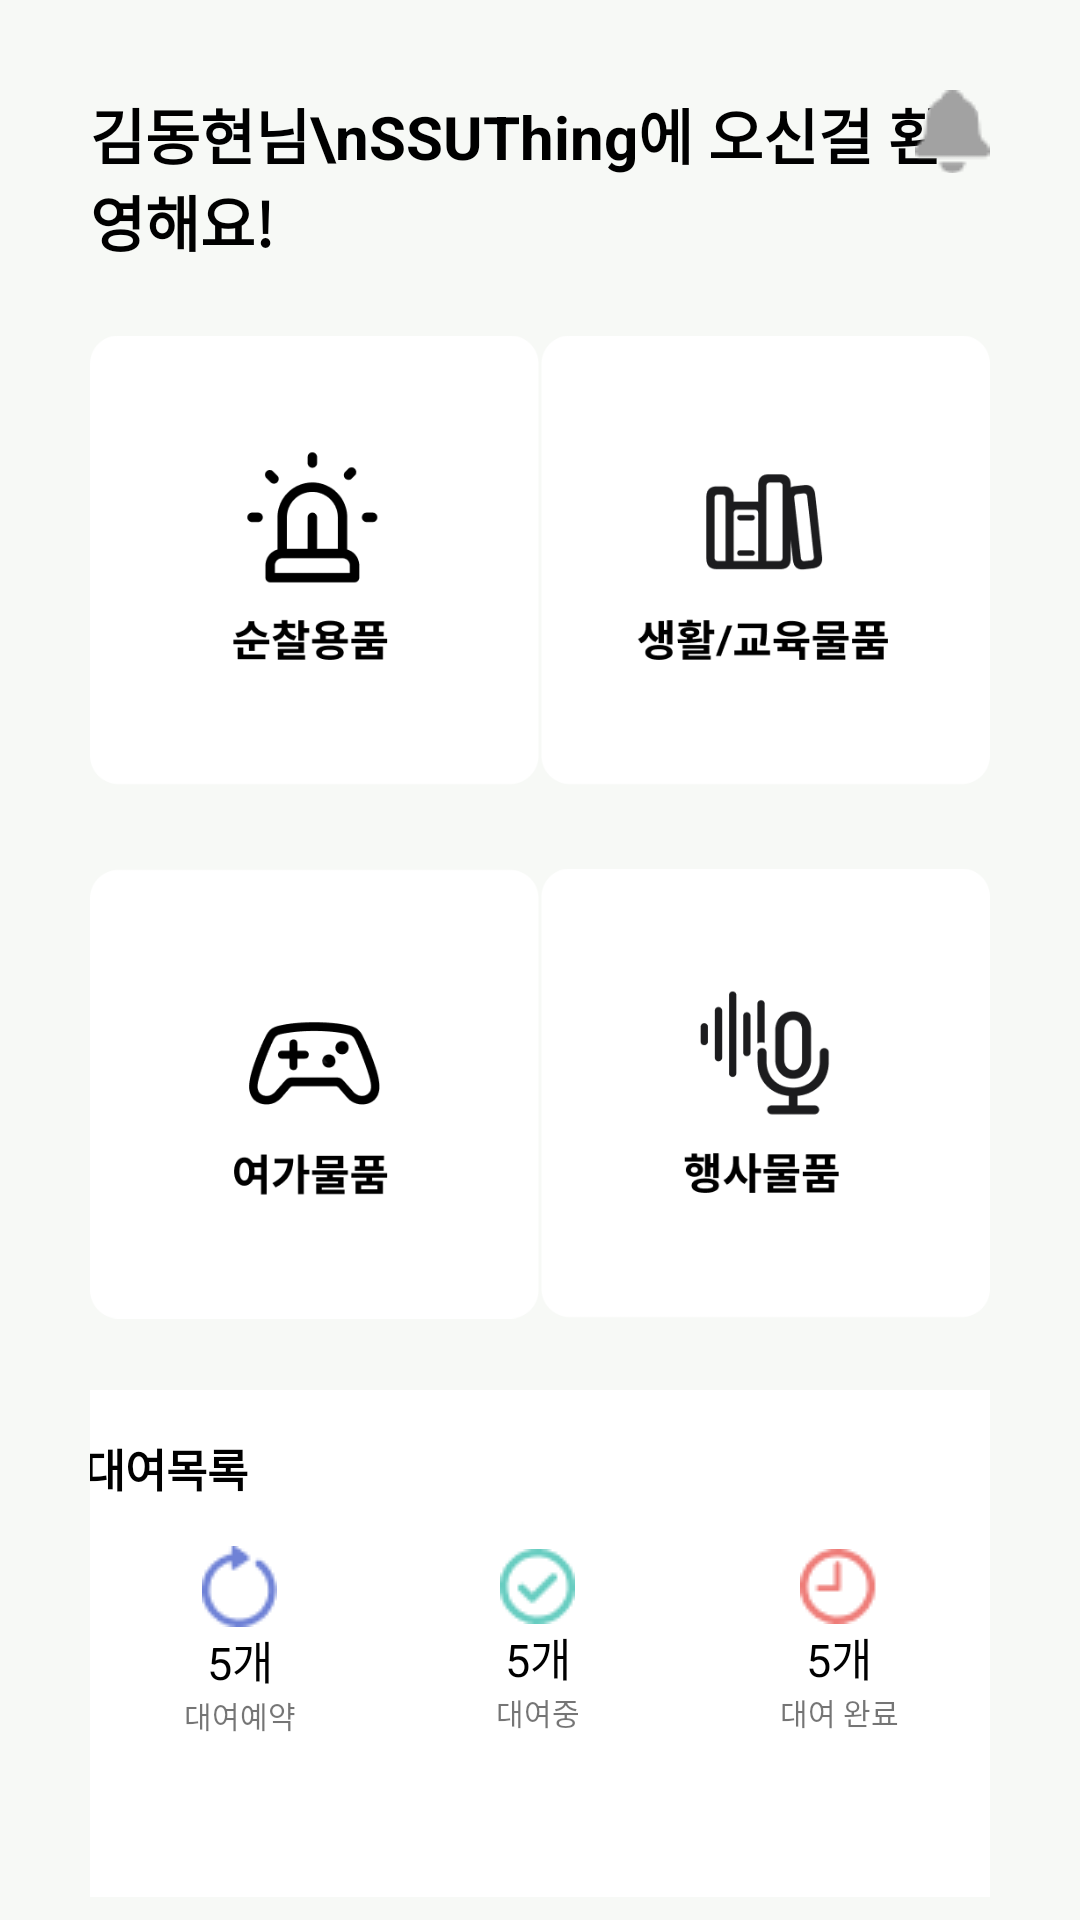

Screen size 1080px×1920px. Icon name, then its box in pixels as (x1, y1, x2, y2):
bell: (915, 90, 990, 173)
check: (500, 1549, 575, 1624)
clock: (800, 1549, 876, 1624)
refresh: (202, 1546, 277, 1627)
